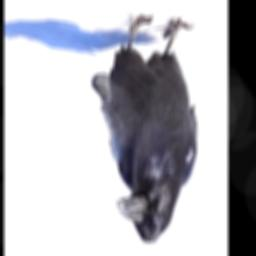Crow: (90, 13, 198, 246)
